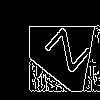Z: (35, 20, 93, 74)
